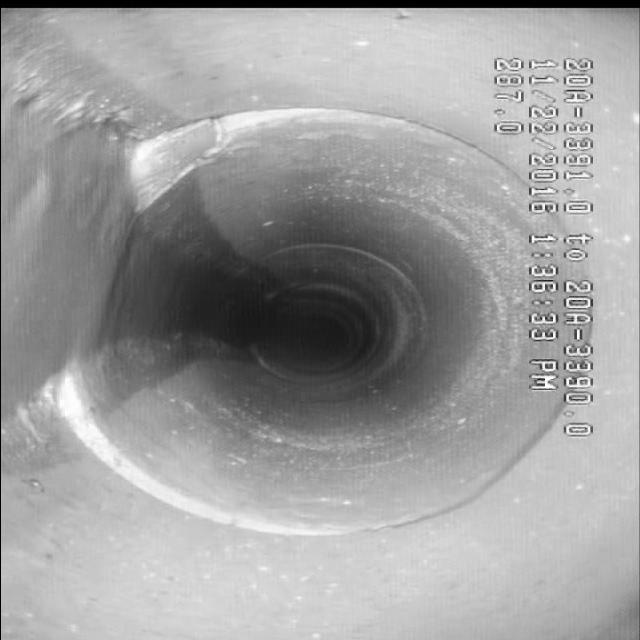Crack: (136, 120, 264, 212)
